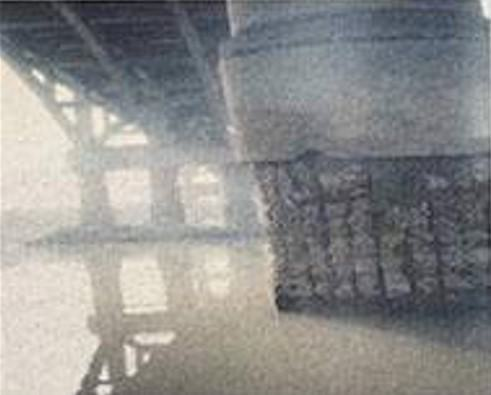Exposed reinforcement: (313, 178, 336, 299), (366, 172, 388, 296), (427, 200, 448, 313), (344, 200, 358, 289), (401, 226, 418, 294)
Spalling: (233, 149, 491, 320)
